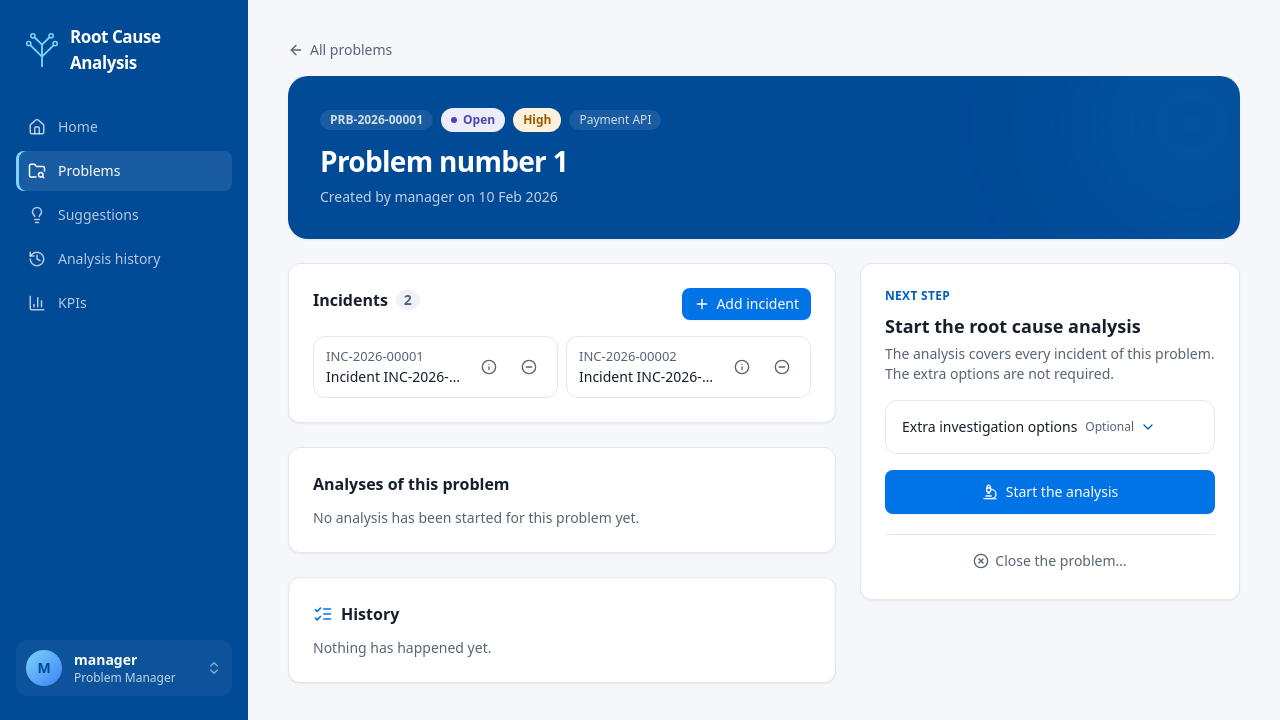
Scenario: Problem page › removes an incident only with a reason, through the API
Click the button named "Remove INC-2026-00002 from the problem" at x=782, y=367, box [766,351,798,383]
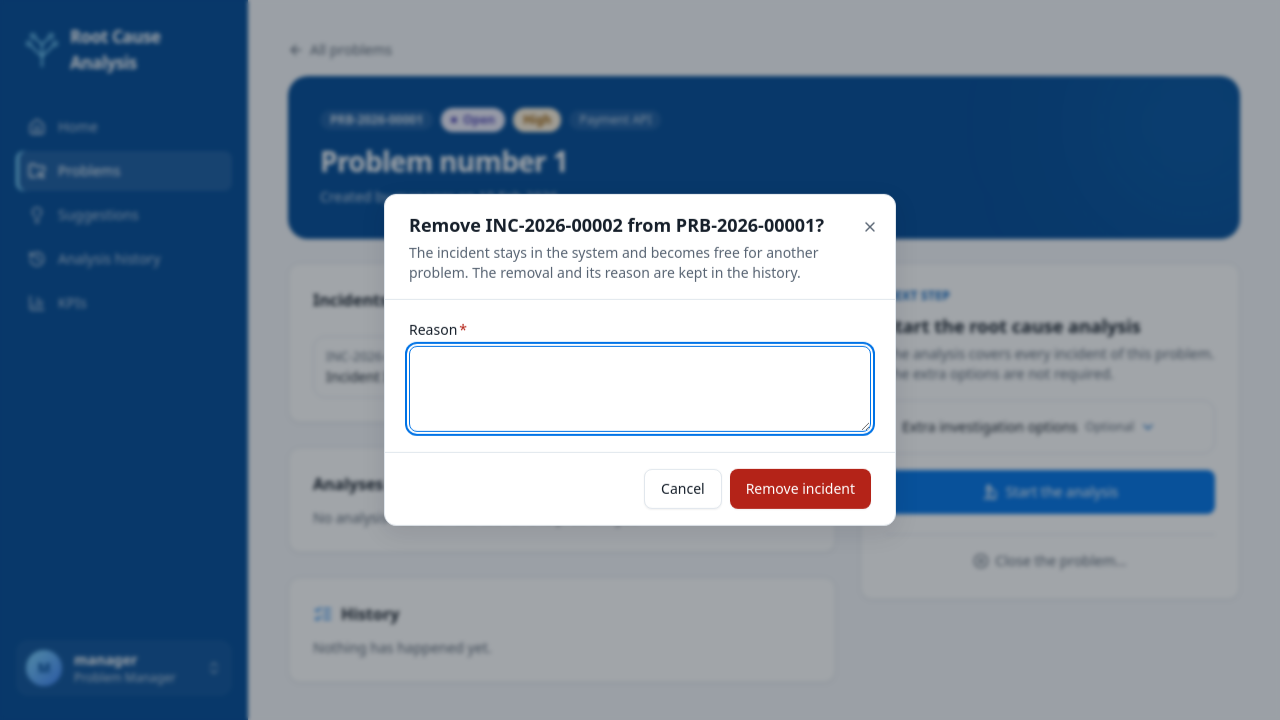
Click the button "Remove incident" at x=800, y=489, box [730,469,871,509]
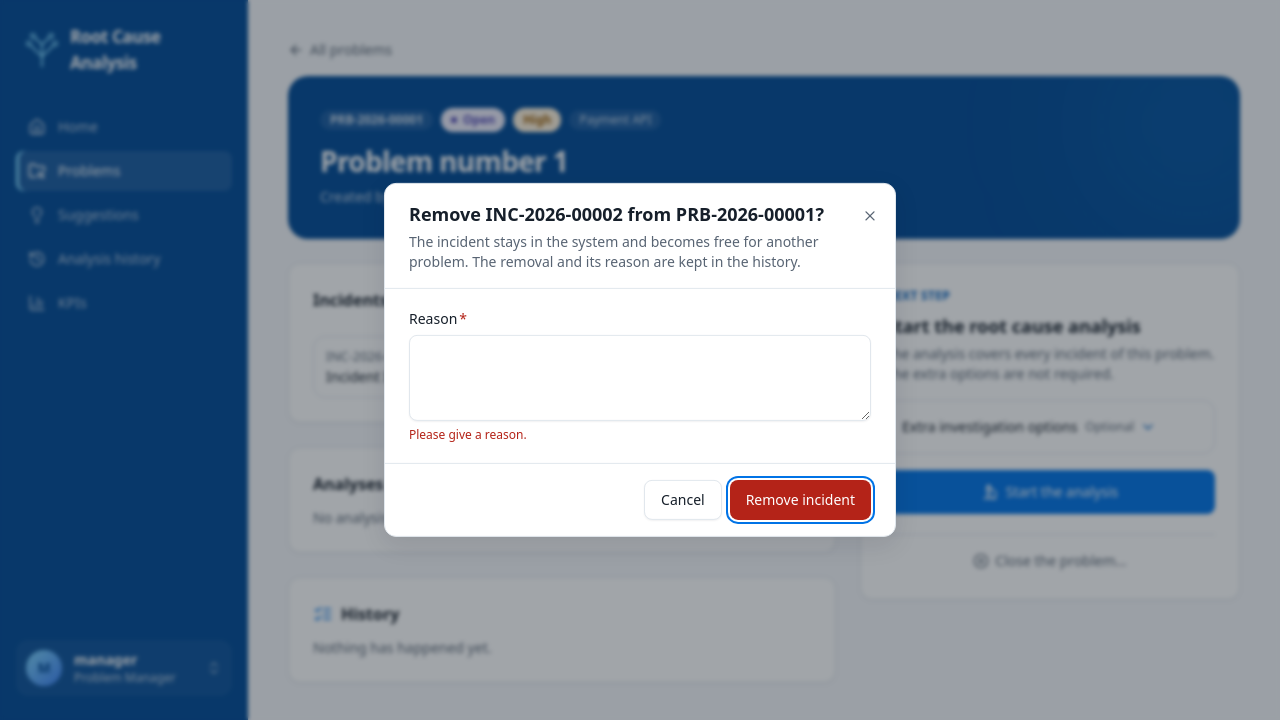
expect the text "Please give a reason." is shown: met, box [409,426,527,443]
Type "Different cause" into the text box labelled "Reason*" at x=640, y=378, box [409,335,871,421]
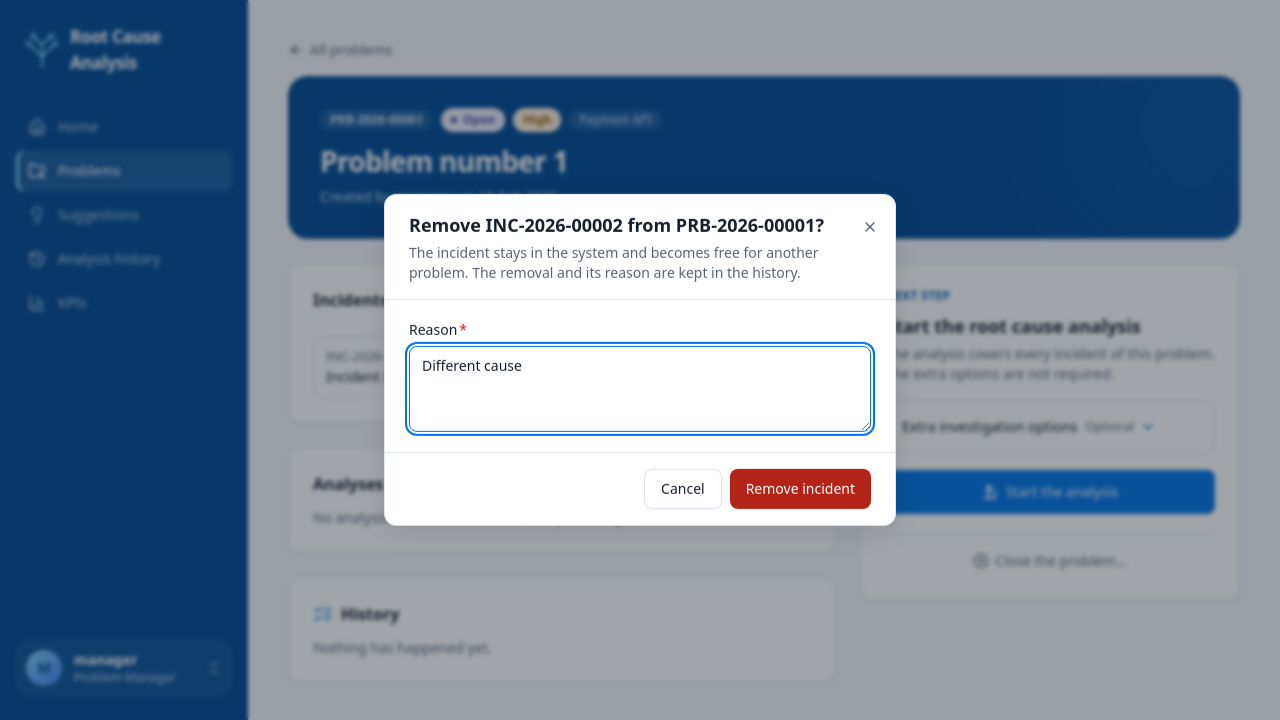
Click the button "Remove incident" at x=800, y=489, box [730,469,871,509]
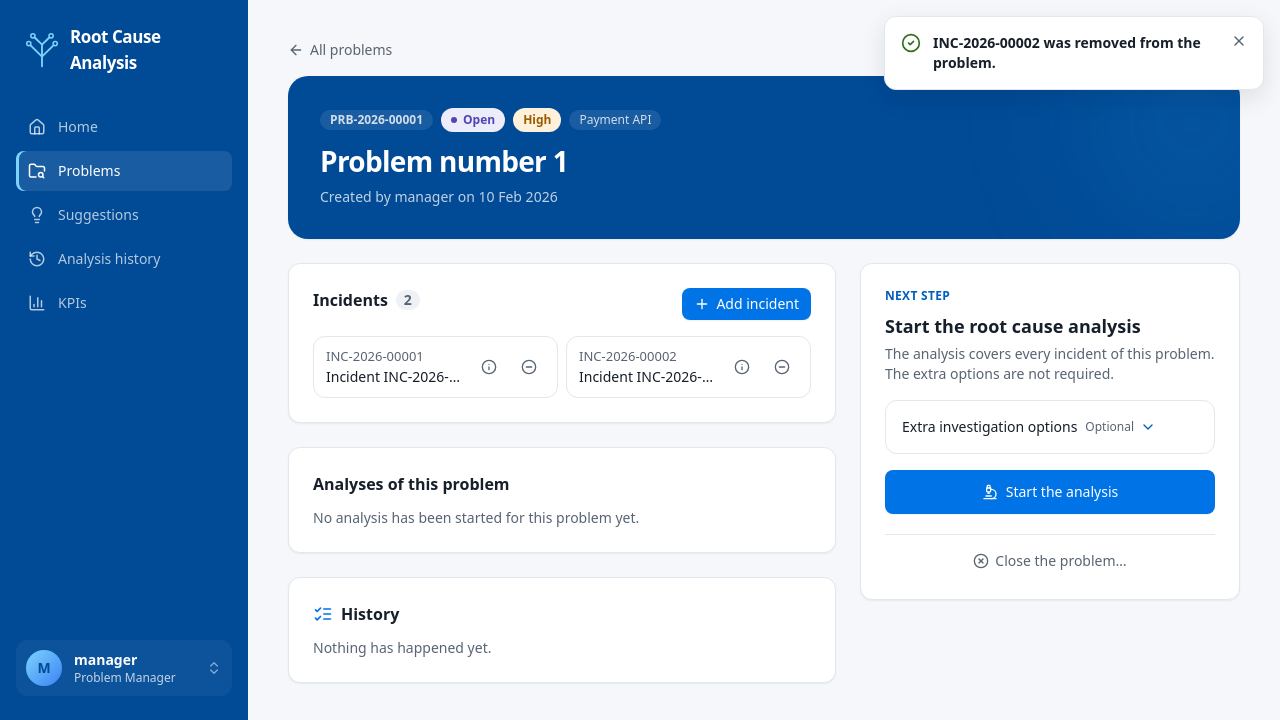
expect the text "INC-2026-00002 was removed from the problem." is shown: met, box [933,33,1219,73]
